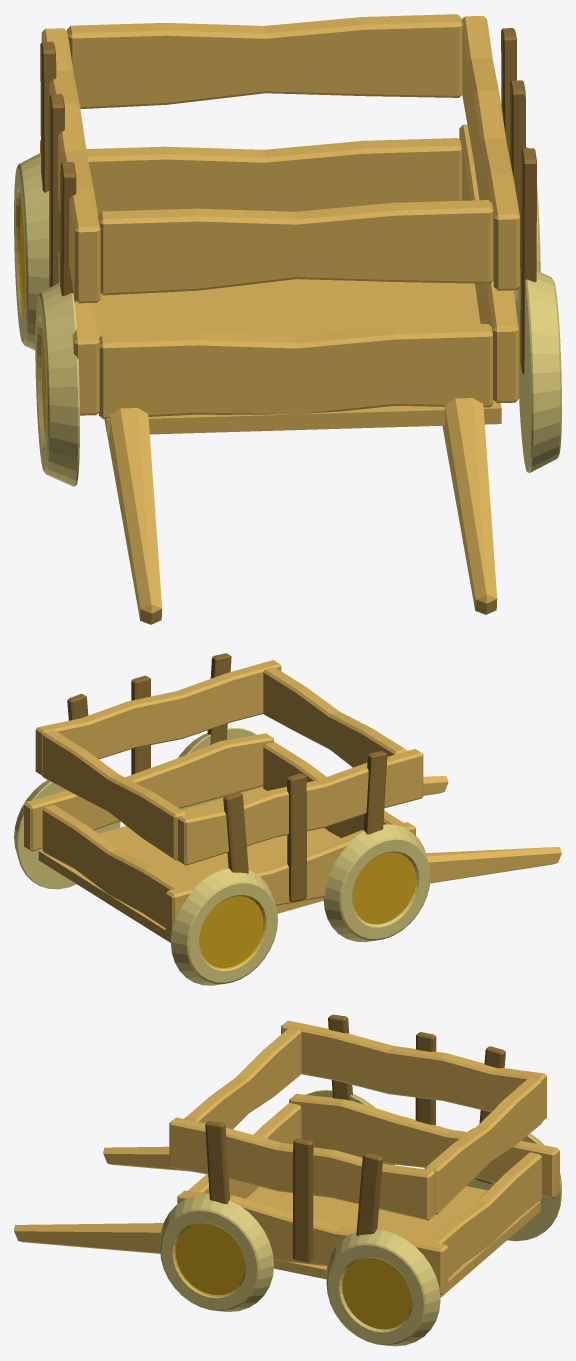
File: woodenTachka.fbx
The picture shows the model from 3 angles, top to bottom: view 1: azimuth 30°, elevation 25°; view 2: azimuth 150°, elevation 25°; view 3: azimuth 270°, elevation 25°; orthographic projection. The views are drawn at different scales.
Parts seen in each view (by area): view 1: Plane; view 2: Plane; view 3: Plane.
Boxes of the visible parts, box(x1,y1,x2,y2) form: Plane: box(14, 14, 561, 624); Plane: box(14, 653, 561, 985); Plane: box(14, 1014, 561, 1346).
Bounding box in the file's own units: 329 × 151 × 398.
